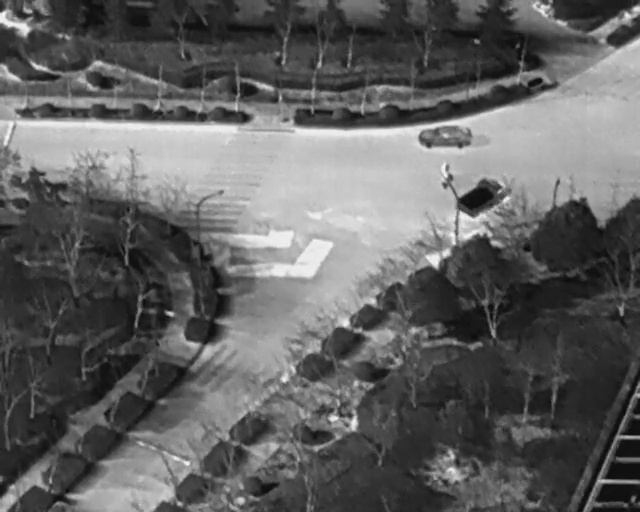Car: (417, 125, 474, 150)
OtherVehicle: (451, 170, 510, 224)
